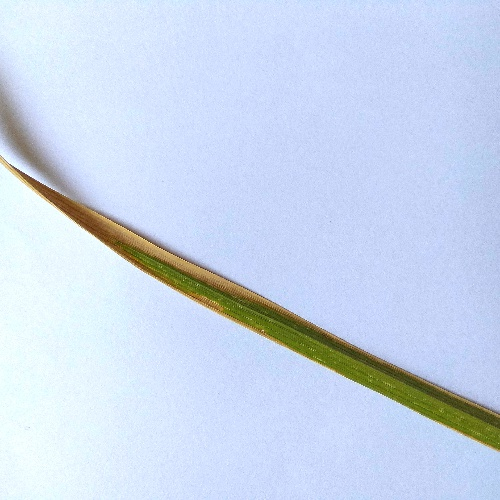Busuk Leher: (12, 156, 115, 238)
